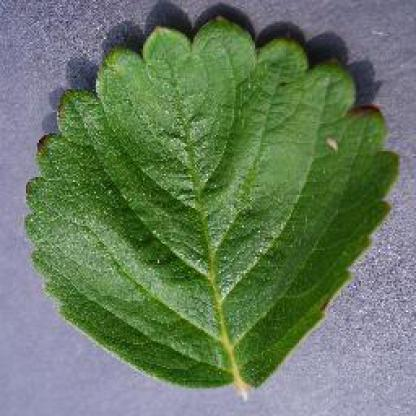healthy: (25, 16, 404, 402)
